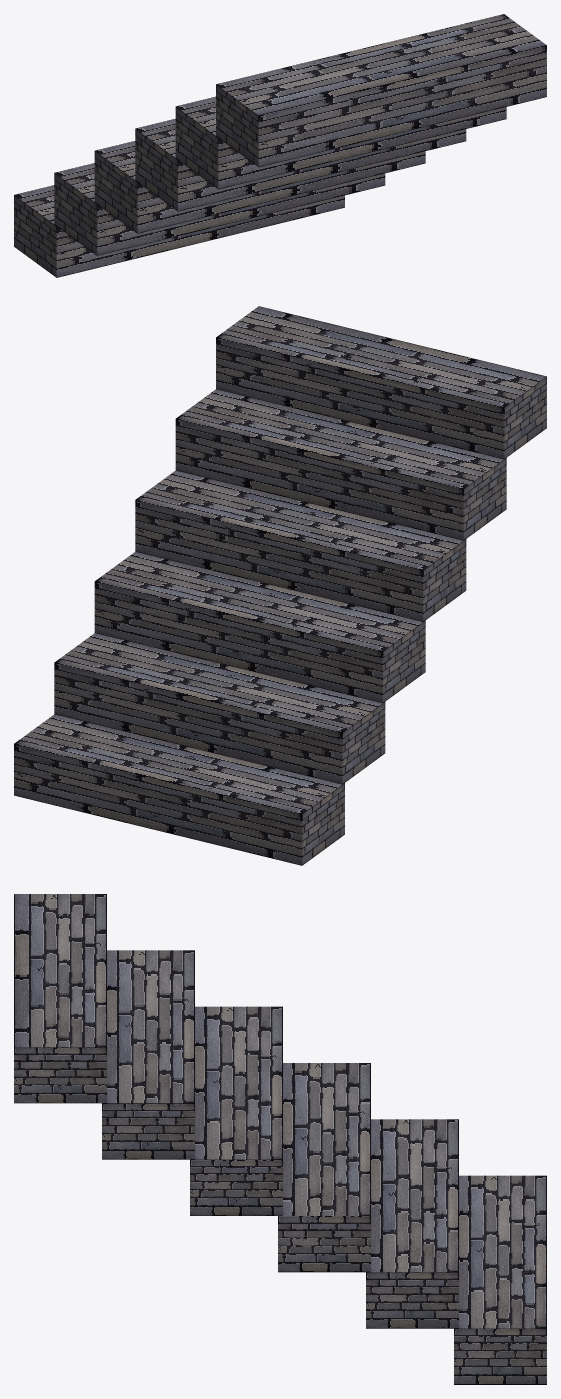
File: catacumba_escada_descida.glb
3 views of the same model, one above another, from view 1: azimuth 30°, elevation 25°; view 2: azimuth 150°, elevation 25°; view 3: azimuth 270°, elevation 25° (orthographic). The views are drawn at different scales.
Visible parts, largest first — view 1: catacumba_escada_descida; view 2: catacumba_escada_descida; view 3: catacumba_escada_descida.
Part boxes in pixels (<box>): catacumba_escada_descida: <box>14,14,546,277</box>; catacumba_escada_descida: <box>14,306,546,865</box>; catacumba_escada_descida: <box>14,894,546,1384</box>.
Size of the model in its own units: 1.4 by 1.44 by 2.06.
Materials: 1 (1 with a texture image).
